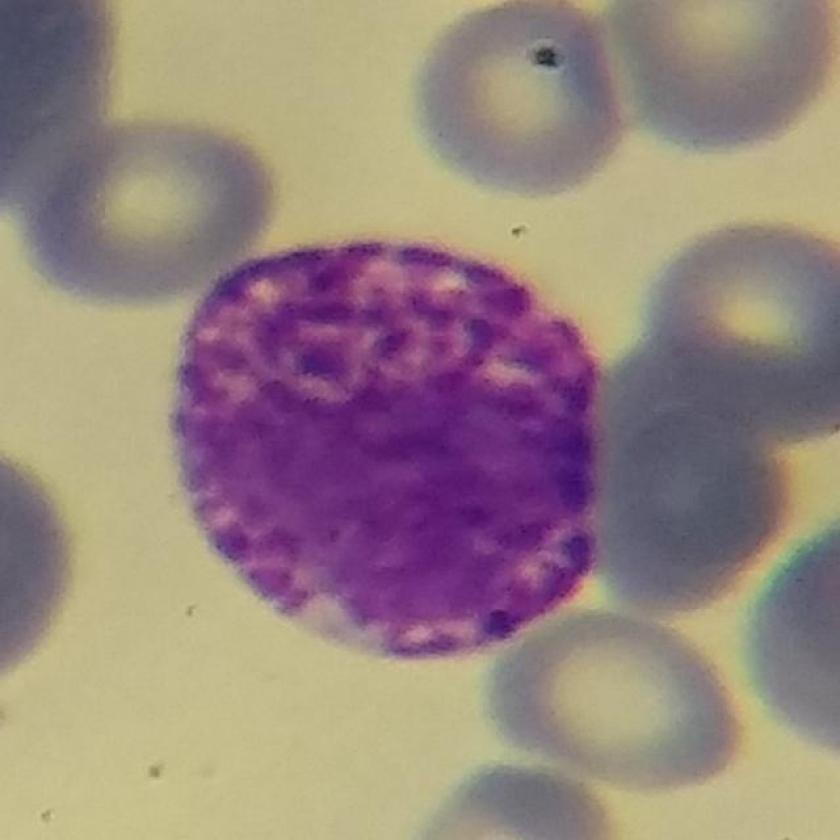basophil: (173, 236, 602, 665)
